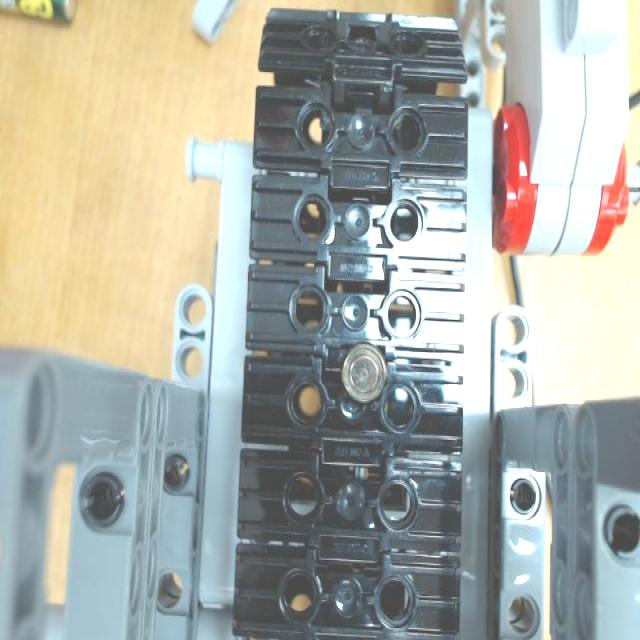COIN: (342, 344, 385, 408)
